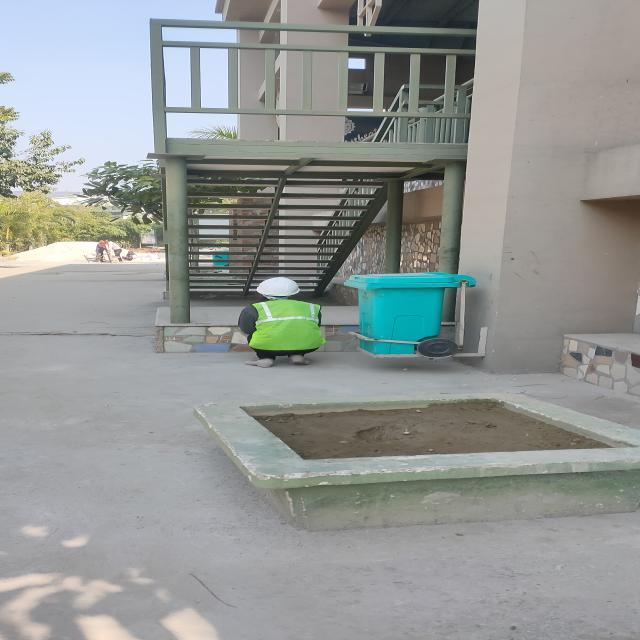safe: (239, 277, 321, 367)
unsafe: (104, 239, 125, 261), (92, 239, 109, 263)
